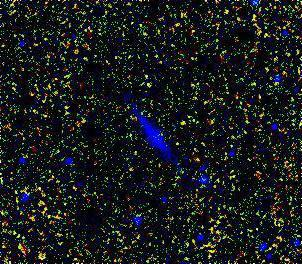star: (169, 108, 199, 138)
